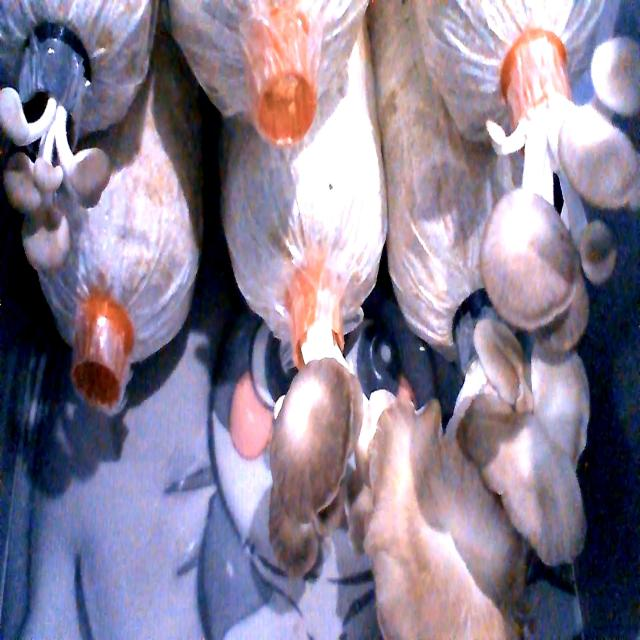big: (382, 351, 603, 639), (475, 46, 640, 325), (259, 320, 369, 566)
nfound: (253, 52, 315, 181), (55, 332, 132, 425)
small: (0, 89, 115, 267)
